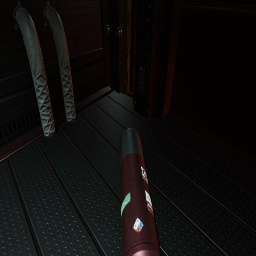NitrogenTank ,: (119, 128, 161, 256)
